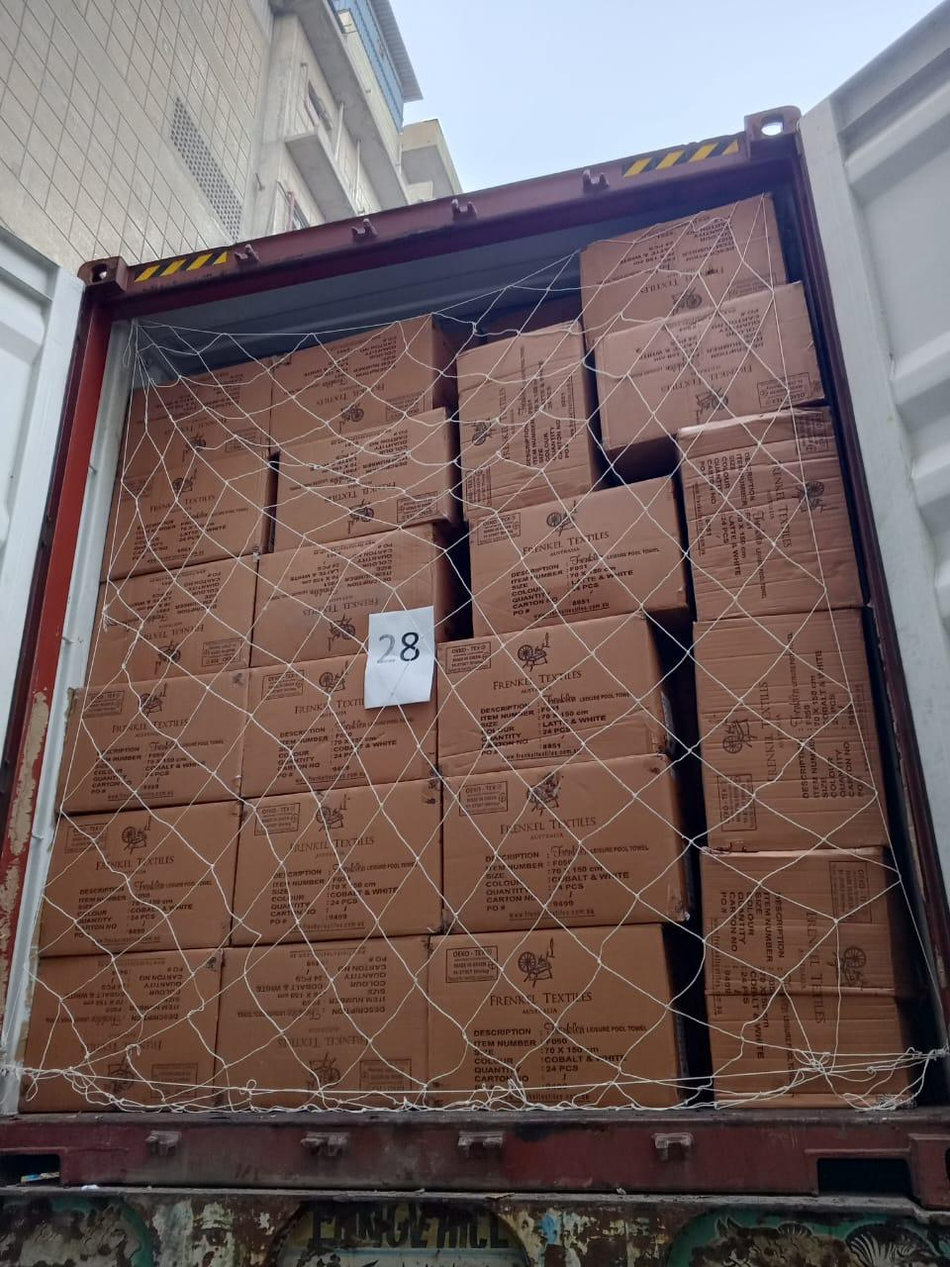carton: (701, 848, 913, 1113), (694, 610, 888, 851), (428, 926, 680, 1108), (596, 283, 823, 478), (443, 756, 688, 932), (413, 616, 668, 775), (678, 409, 862, 620), (217, 937, 428, 1108), (232, 779, 442, 945), (470, 479, 689, 636), (21, 949, 222, 1113), (580, 194, 787, 347), (39, 801, 240, 955), (251, 525, 461, 666), (241, 654, 437, 799), (458, 324, 598, 522), (59, 670, 248, 815), (275, 410, 459, 551), (272, 316, 455, 454), (87, 556, 257, 685), (104, 450, 274, 578), (120, 357, 275, 476)
